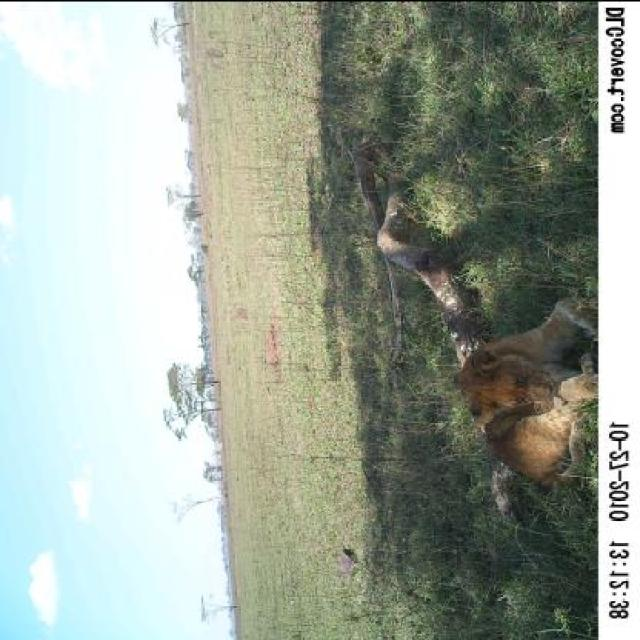Lion: (449, 288, 597, 492)
